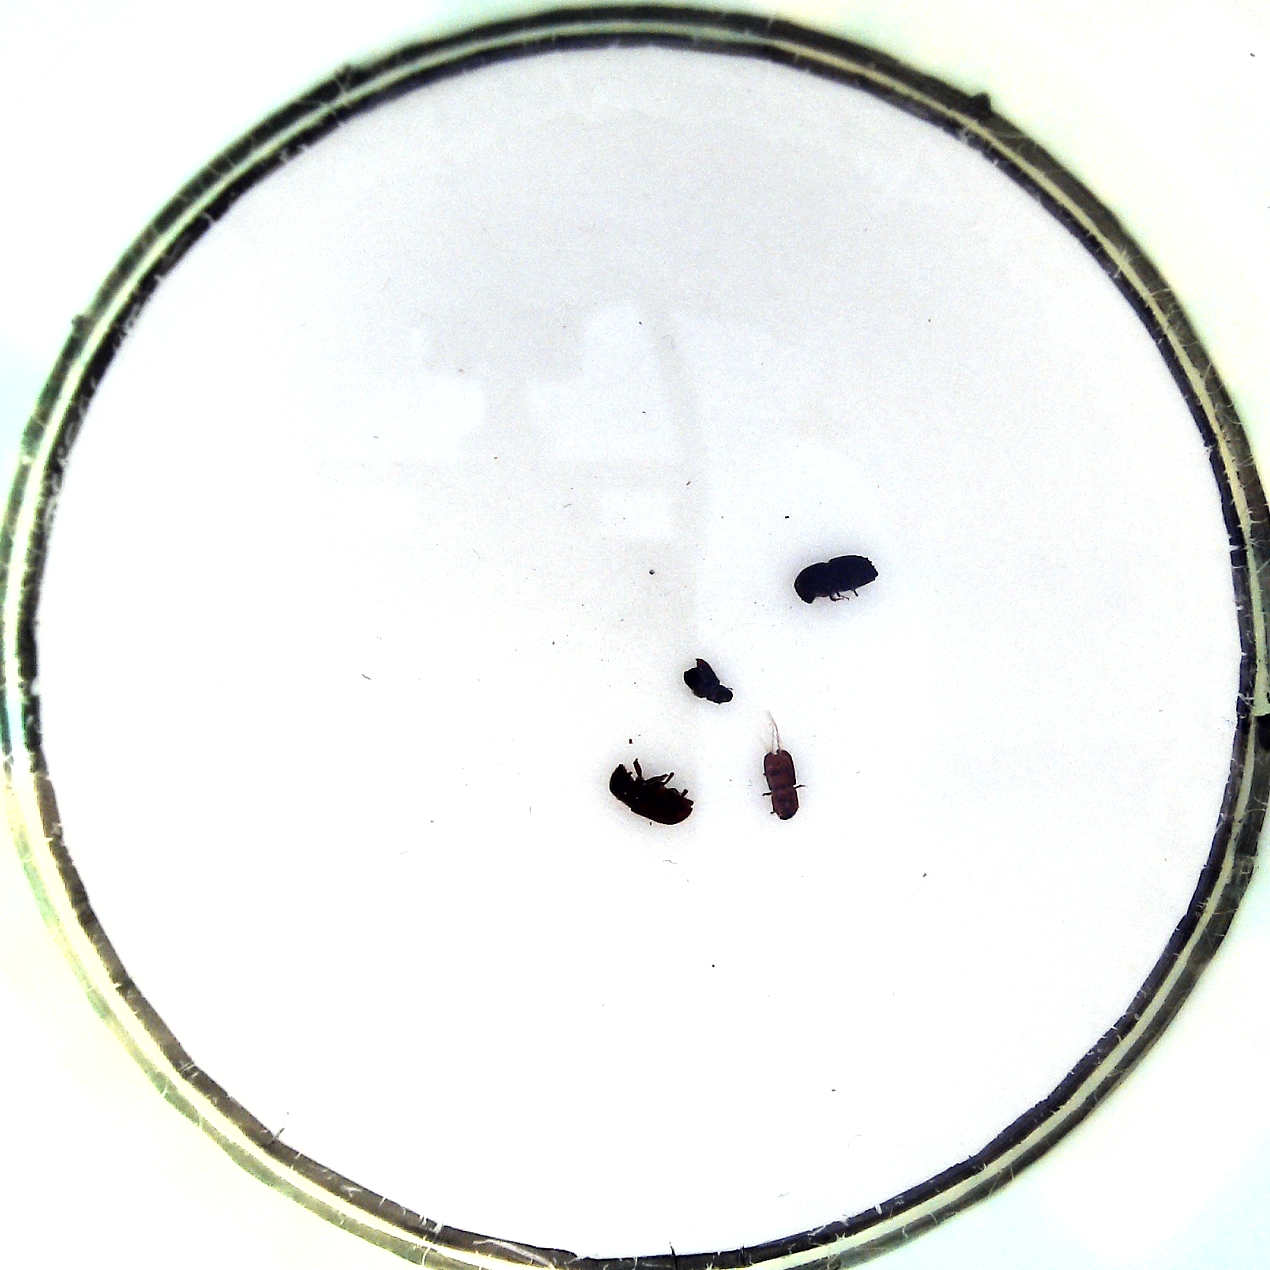Linnaeus: (791, 550, 883, 607)
acuminatus: (758, 732, 807, 820)
armandi: (604, 752, 697, 828)
coleoptera: (679, 652, 737, 709)
